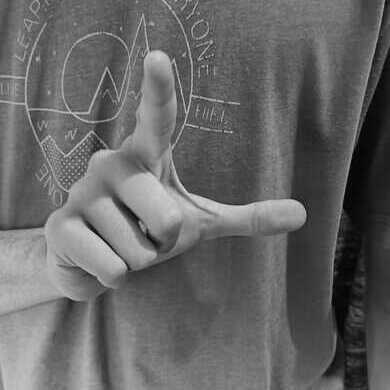L: (43, 48, 309, 304)
